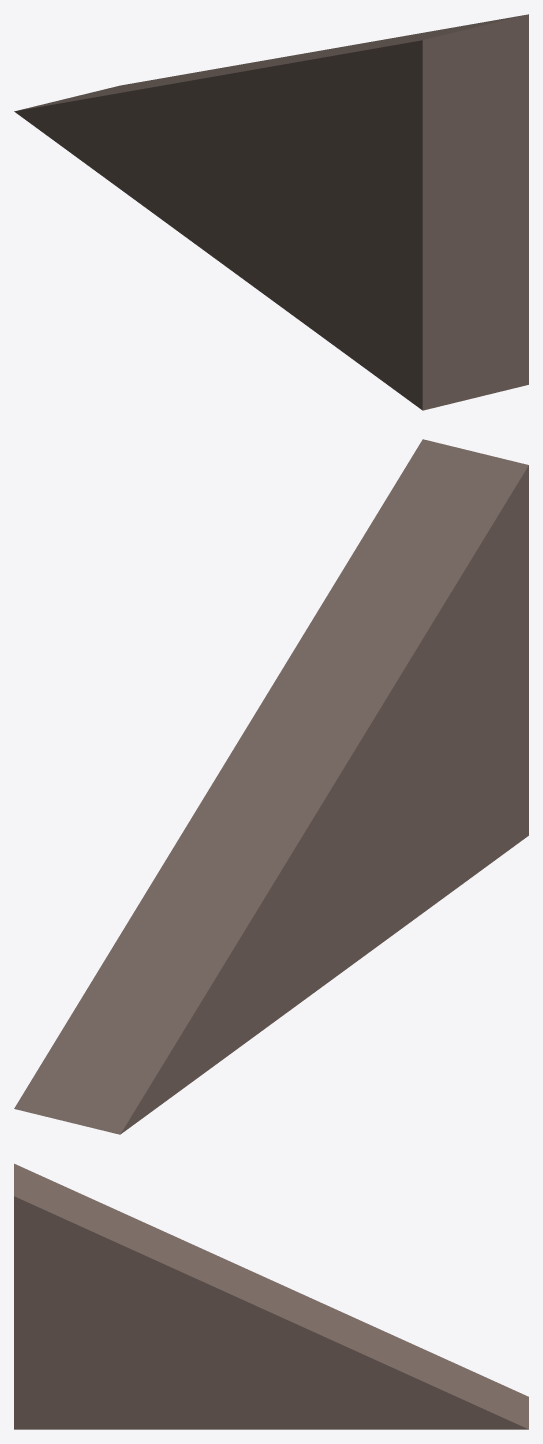
Rendered from Village_Wall_2m_Stone_Slant.fbx.
The picture shows the model from 3 angles, top to bottom: view 1: azimuth 30°, elevation 25°; view 2: azimuth 150°, elevation 25°; view 3: azimuth 270°, elevation 25°; orthographic projection. The views are drawn at different scales.
Parts seen in each view (by area): view 1: Village_Wall_2m_Stone_Slant_A.002; view 2: Village_Wall_2m_Stone_Slant_A.002; view 3: Village_Wall_2m_Stone_Slant_A.002.
Part boxes in pixels (x1=…): Village_Wall_2m_Stone_Slant_A.002: x1=14, y1=14, x2=528, y2=410; Village_Wall_2m_Stone_Slant_A.002: x1=14, y1=439, x2=528, y2=1134; Village_Wall_2m_Stone_Slant_A.002: x1=14, y1=1163, x2=528, y2=1429.
Bounding box in the file's own units: 30 × 100 × 200.
